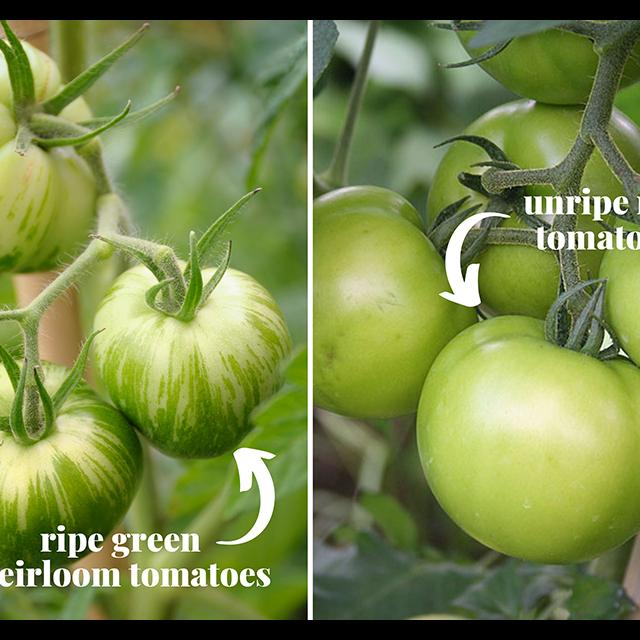tomato: (410, 324, 640, 561), (77, 250, 292, 438), (0, 351, 156, 573), (0, 35, 101, 248)
